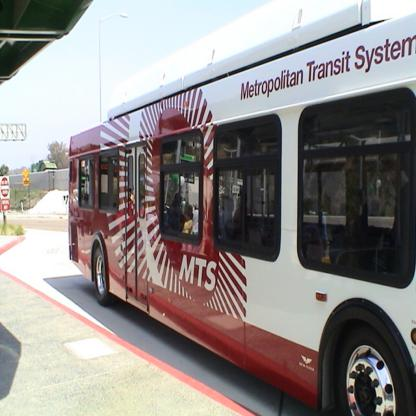Bus: (67, 0, 416, 415)
